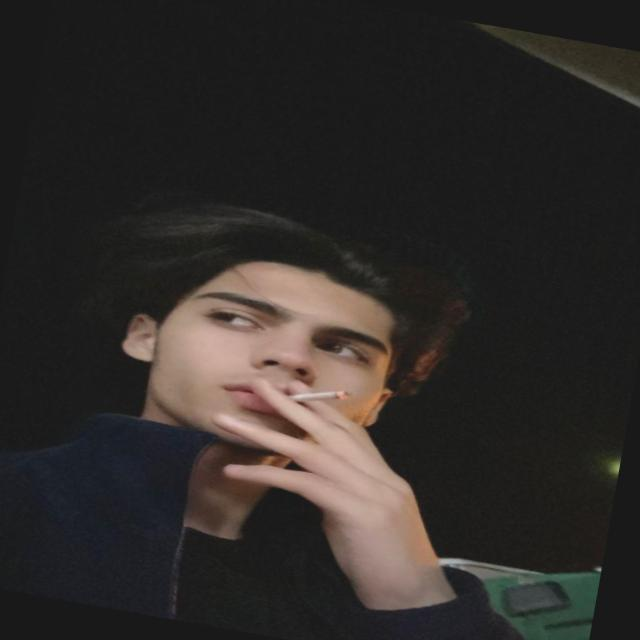cigarette: (268, 369, 361, 418)
